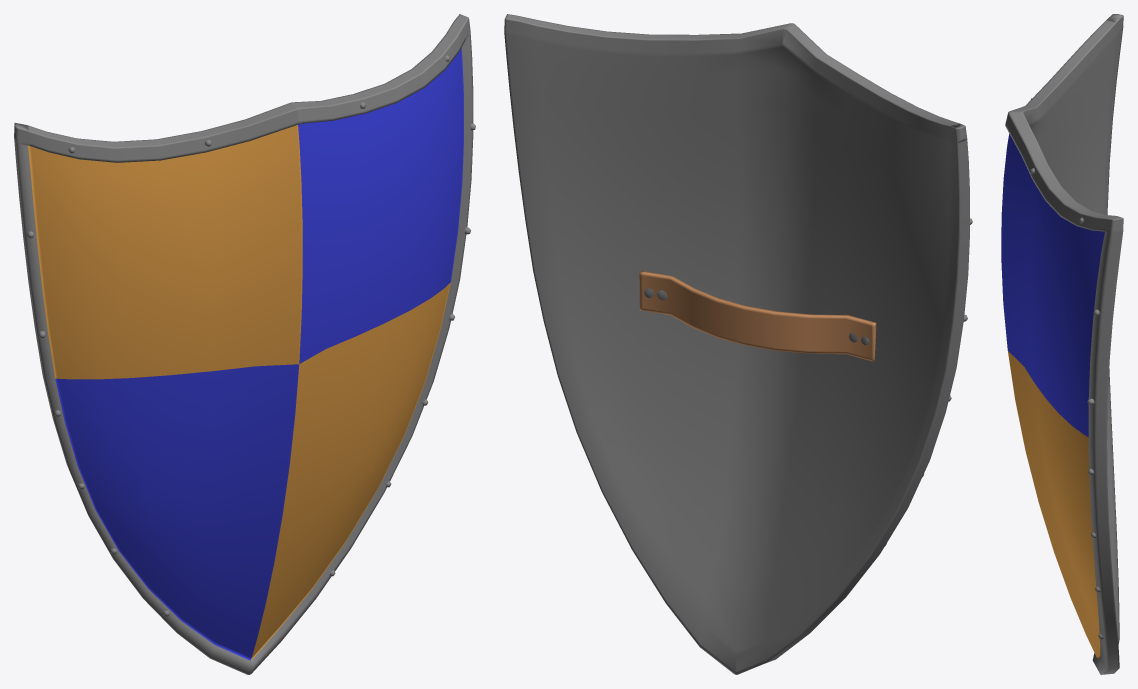
The model's file is MetalKiteShield.fbx.
The picture shows the model from 3 angles, left to right: view 1: azimuth 30°, elevation 25°; view 2: azimuth 150°, elevation 25°; view 3: azimuth 270°, elevation 25°; orthographic projection. The views are drawn at different scales.
Visible parts, largest first — view 1: KiteShield_LOD0; view 2: KiteShield_LOD0; view 3: KiteShield_LOD0.
Part boxes in pixels (x1,y1,x2,y2): KiteShield_LOD0: (14, 14, 475, 674); KiteShield_LOD0: (504, 14, 972, 674); KiteShield_LOD0: (1001, 14, 1123, 674).
Size of the model in its own units: 75.83 by 96.19 by 18.97.
